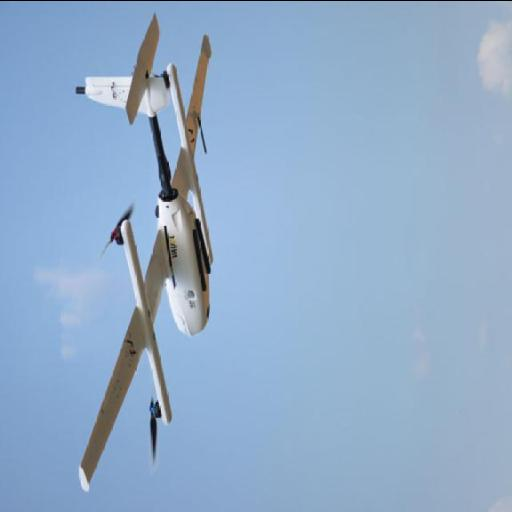uav: (66, 17, 220, 493)
